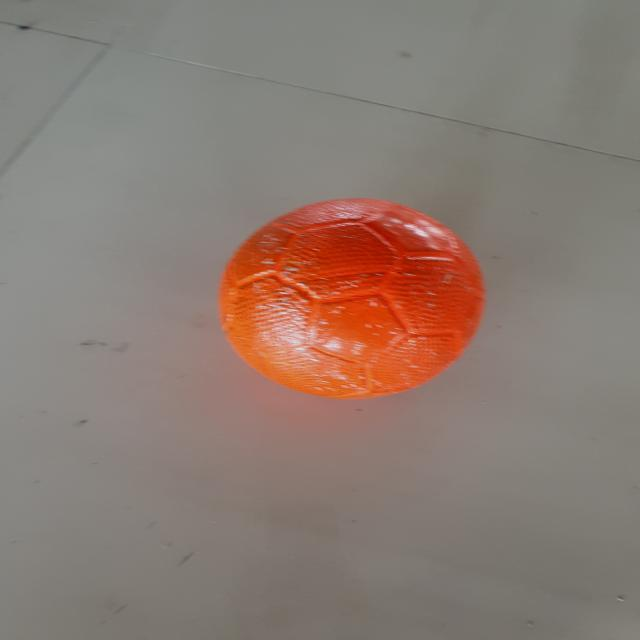bola: (218, 191, 487, 407)
